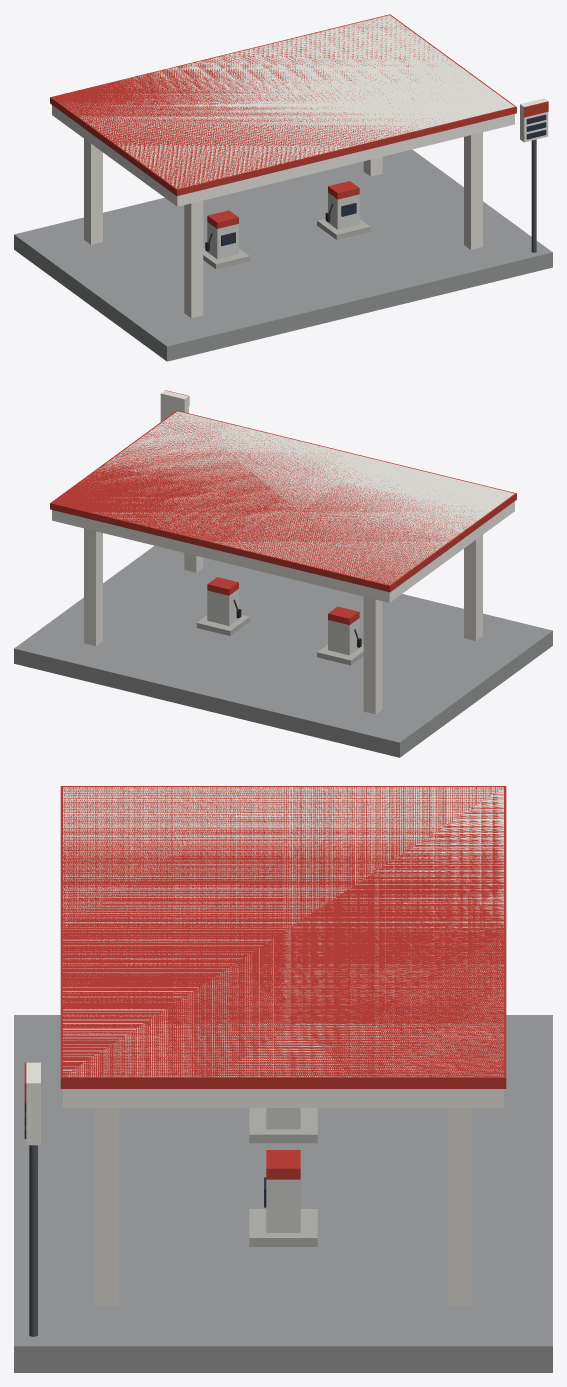
Rendered from GasCanopy.glb.
3 renders of one model, top to bottom at view 1: azimuth 30°, elevation 25°; view 2: azimuth 150°, elevation 25°; view 3: azimuth 270°, elevation 25°, orthographic. The views are drawn at different scales.
Parts seen in each view (by area): view 1: GasCanopy; view 2: GasCanopy; view 3: GasCanopy.
Boxes of the visible parts, box(x1,y1,x2,y2) form: GasCanopy: box(14, 14, 552, 361); GasCanopy: box(14, 390, 552, 757); GasCanopy: box(14, 786, 552, 1372).
Bounding box in the file's own units: 16 × 6.5 × 11.
